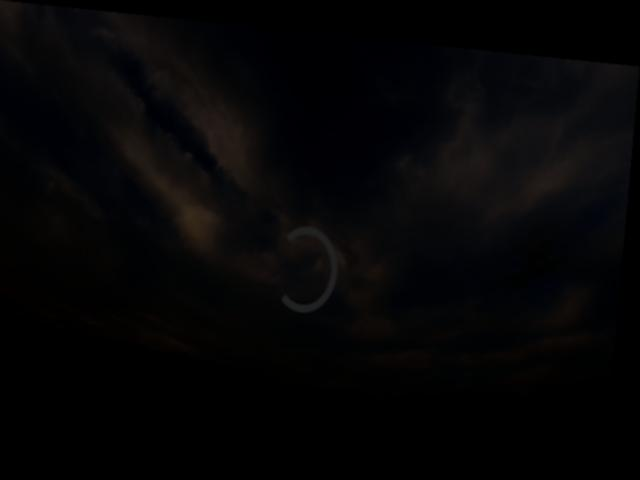plane: (548, 405, 560, 414)
